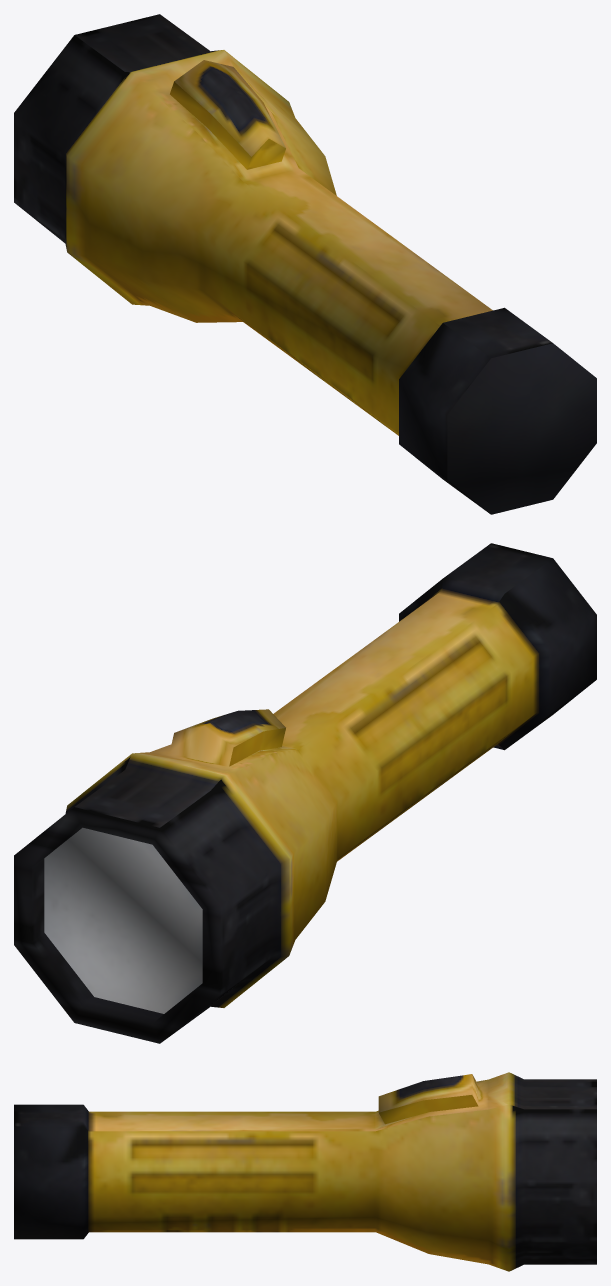
File: Flashlight.glb
3 renders of one model, top to bottom at view 1: azimuth 30°, elevation 25°; view 2: azimuth 150°, elevation 25°; view 3: azimuth 270°, elevation 25°, orthographic. The views are drawn at different scales.
Parts seen in each view (by area): view 1: Flashlight; view 2: Flashlight; view 3: Flashlight.
Part boxes in pixels (x1,y1,x2,y2): Flashlight: (14, 14, 596, 514); Flashlight: (14, 543, 596, 1043); Flashlight: (14, 1072, 596, 1271).
Bounding box in the file's own units: 1.63 × 1.77 × 5.15.
Materials: 1 (1 with a texture image).
